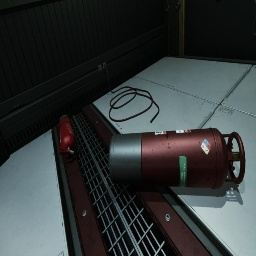FireExtinguisher ]: (58, 114, 80, 158)
NitrogenTank ,: (108, 128, 246, 189)
